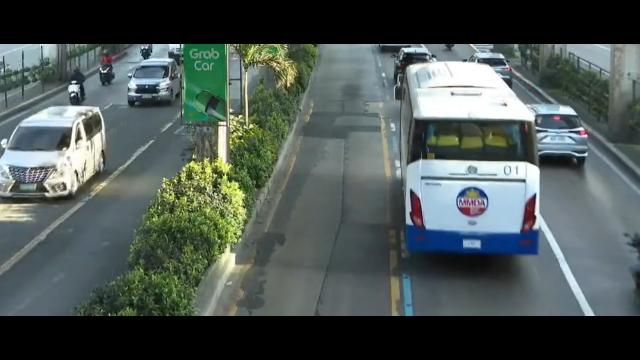bus: (397, 61, 541, 258)
car: (526, 101, 589, 166), (125, 59, 185, 109), (469, 50, 515, 92), (394, 46, 435, 79)
motorcycle: (67, 66, 87, 106), (98, 48, 116, 86), (139, 44, 154, 61)
van: (0, 103, 116, 205)
